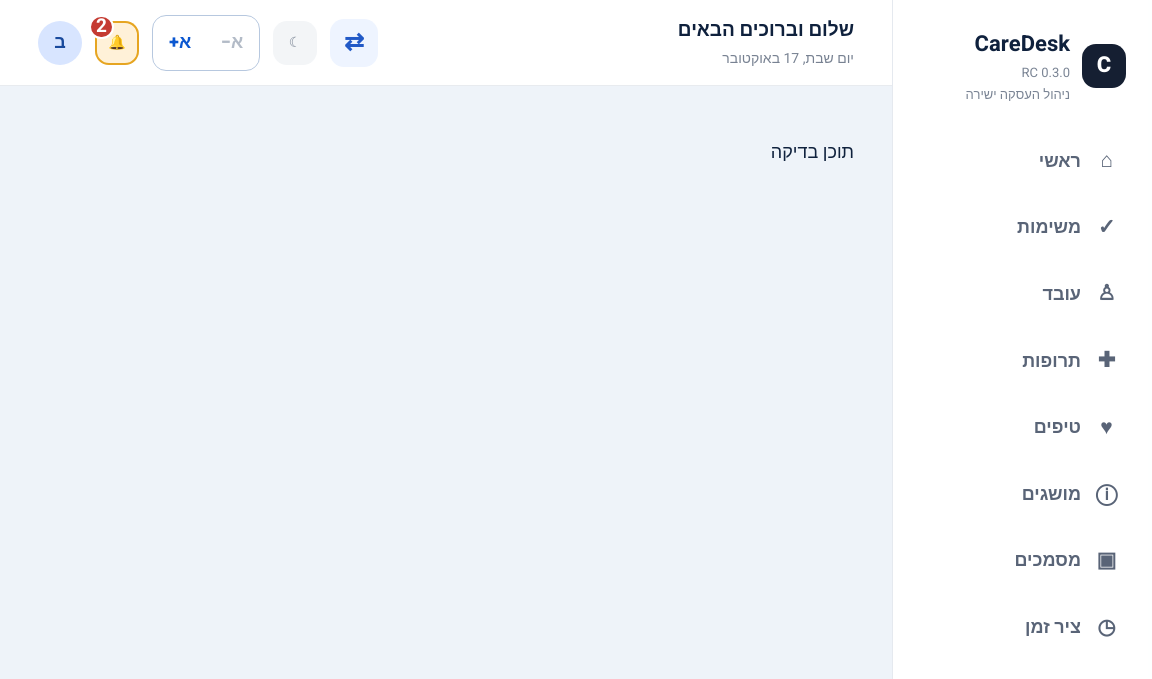
it: AppShell text size controls › enlarges the entire interface and persists the selected size
The width and height of the screenshot is (1152, 679).
Click the button named "הגדלת טקסט": point(180, 42) [156,18,204,66]
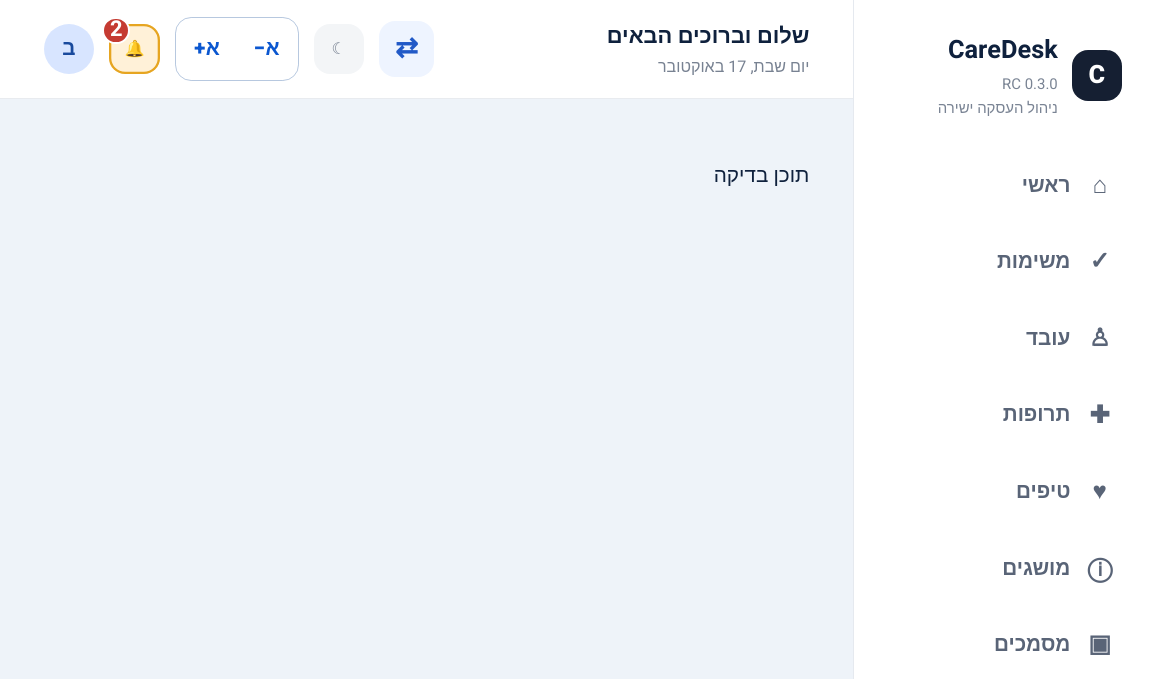
Click the button named "הגדלת טקסט": point(207, 49) [179,21,234,76]
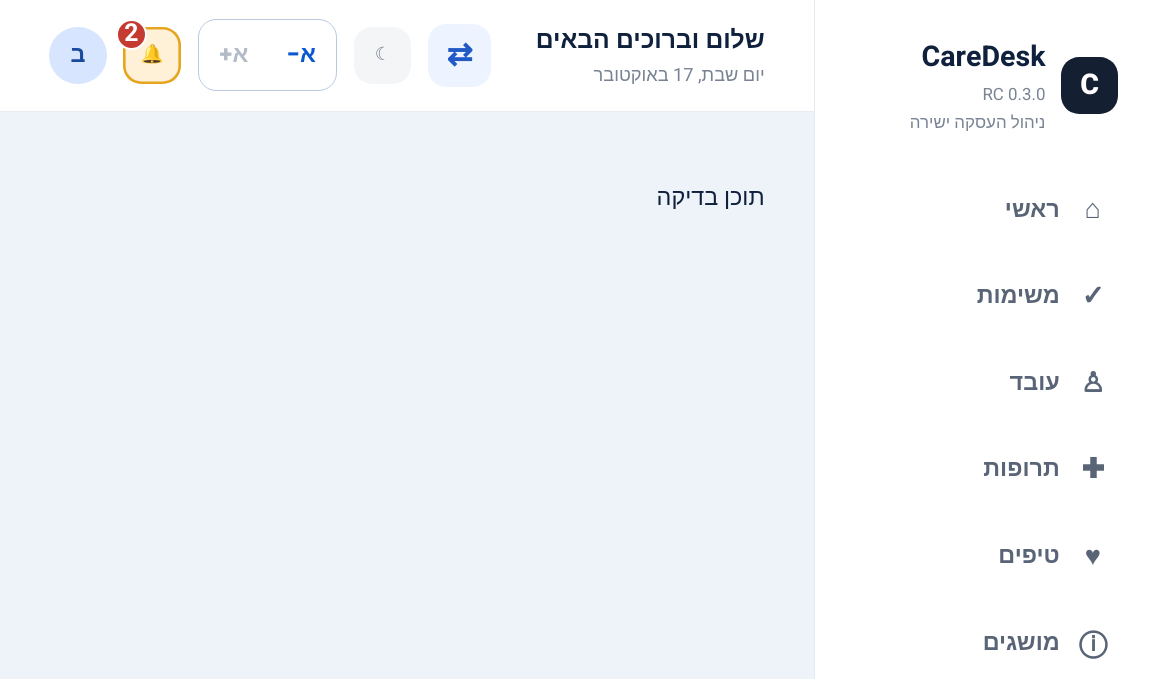
Now the button named "הגדלת טקסט" is disabled, box [202,24,265,87]
